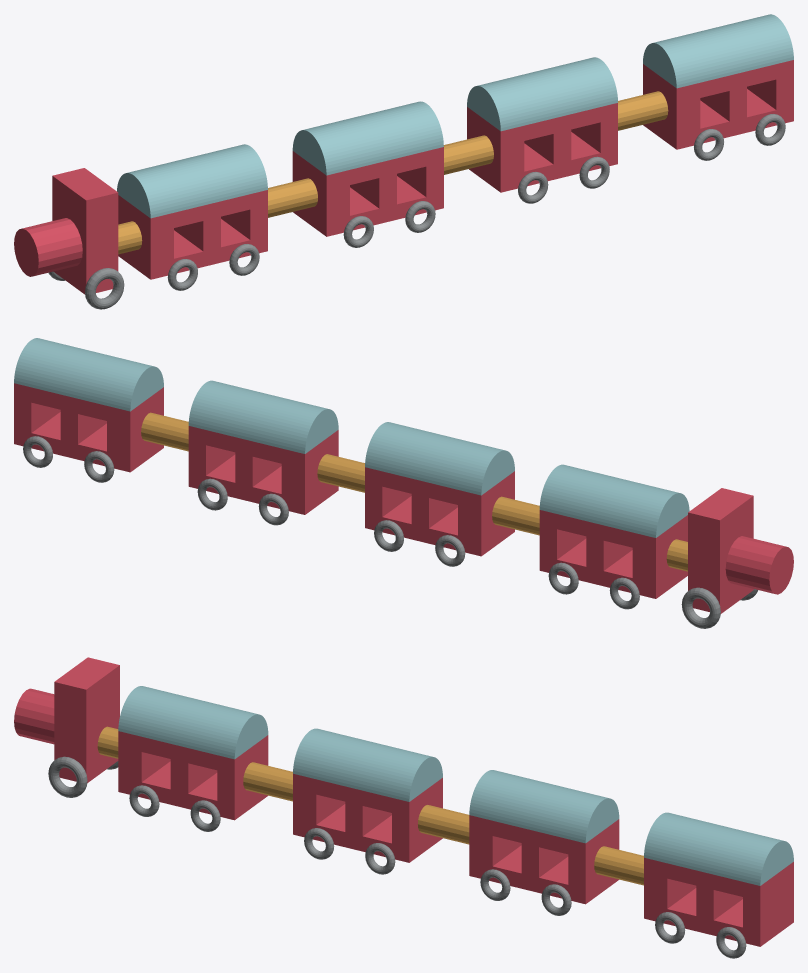
File: Ingenious Luulia-Jaagub.glb
The picture shows the model from 3 angles, top to bottom: view 1: azimuth 30°, elevation 25°; view 2: azimuth 150°, elevation 25°; view 3: azimuth 330°, elevation 25°; orthographic projection.
Visible parts, largest first — view 1: Mesh_Mesh_head_geo.001_lambert2SG.001; view 2: Mesh_Mesh_head_geo.001_lambert2SG.001; view 3: Mesh_Mesh_head_geo.001_lambert2SG.001.
Part boxes in pixels (<box>): Mesh_Mesh_head_geo.001_lambert2SG.001: <box>14,14,793,309</box>; Mesh_Mesh_head_geo.001_lambert2SG.001: <box>14,338,793,628</box>; Mesh_Mesh_head_geo.001_lambert2SG.001: <box>14,657,793,958</box>.
Size of the model in its own units: 257 by 36 by 26.5.
